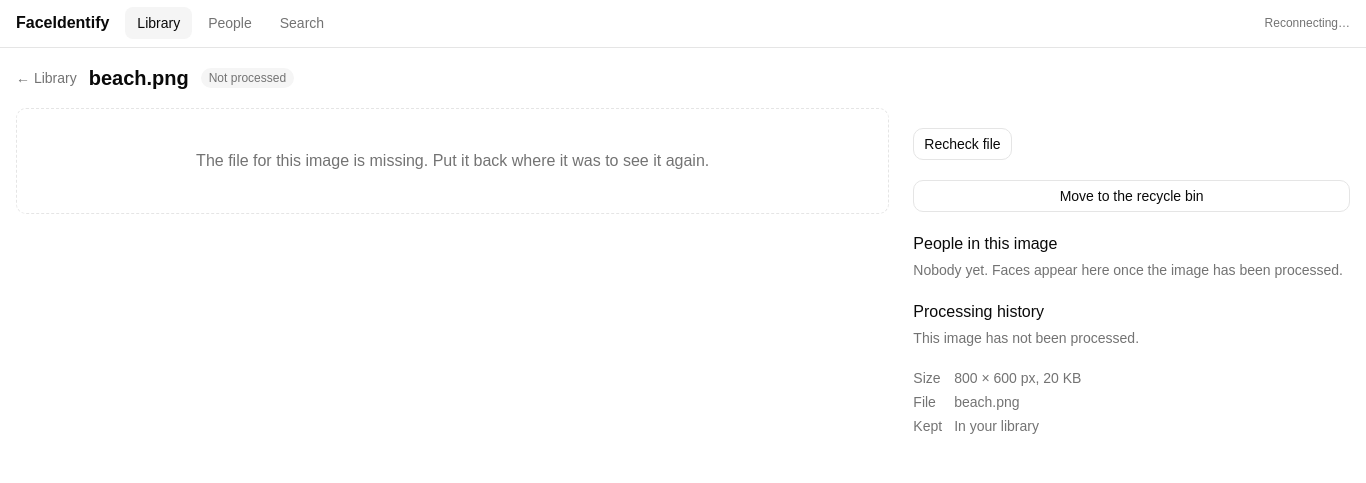
Scenario: a missing original › rechecks the file and shows the image again when it is back
Click the button "Recheck file": x=962, y=144 913,128 -> 1012,160
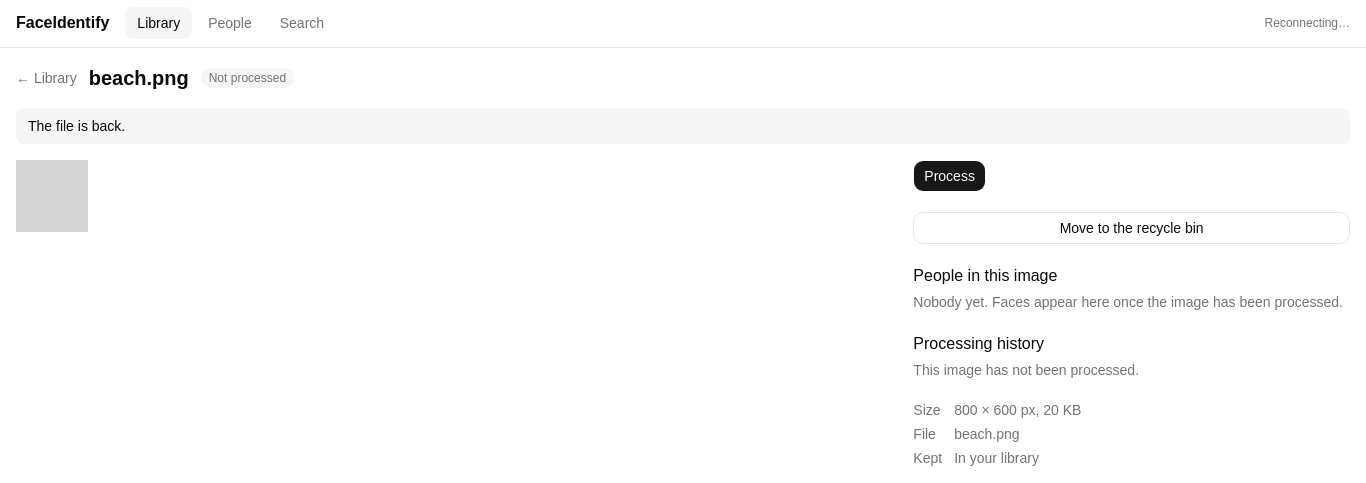
Check: the message named "Source notice" reads "The file is back.", box 28,118 -> 125,134
